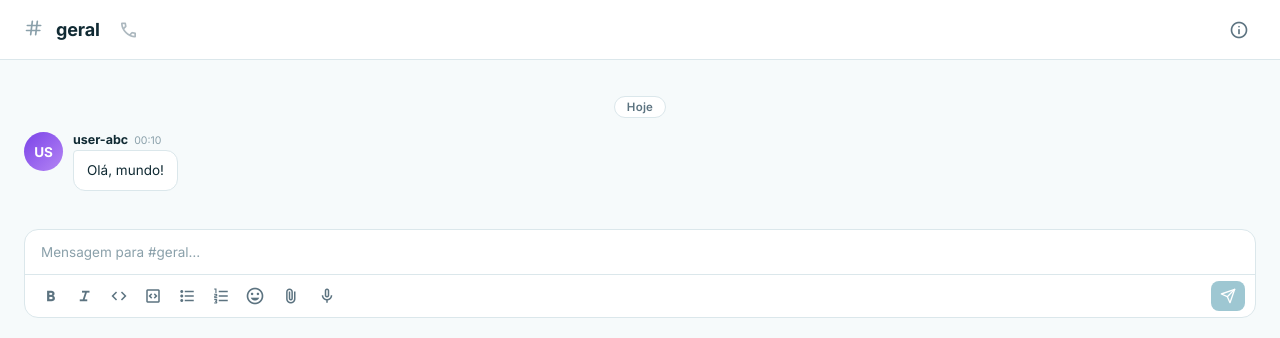
Test case: ChatMessageArea — message list › reveals the reaction menu by keyboard focus and touch
This screenshot has width=1280, height=338.
Focus the element with test id "chat-msg-bubble": point(101, 161) [24,132,178,191]
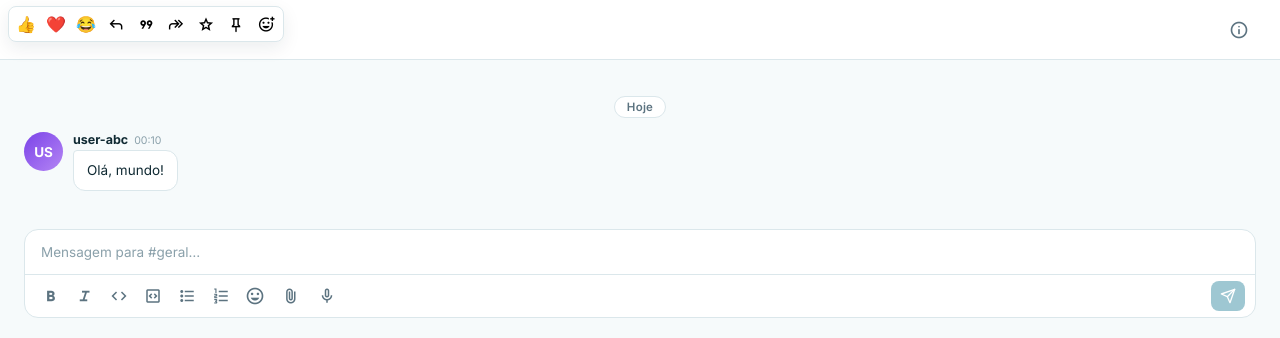
Now the button named "Mais reações" is shown, box [252,10,280,38]
Now the button named "Responder" is shown, box [102,10,130,38]
Leave the element with test id "chat-msg-bubble", box [24,132,178,191]
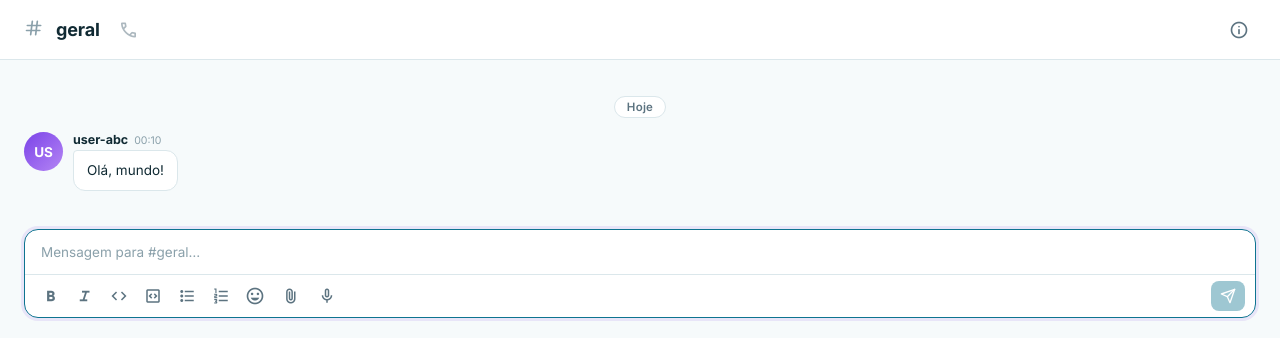
Press the mouse on the element with test id "chat-msg-bubble": point(101, 161) [24,132,178,191]
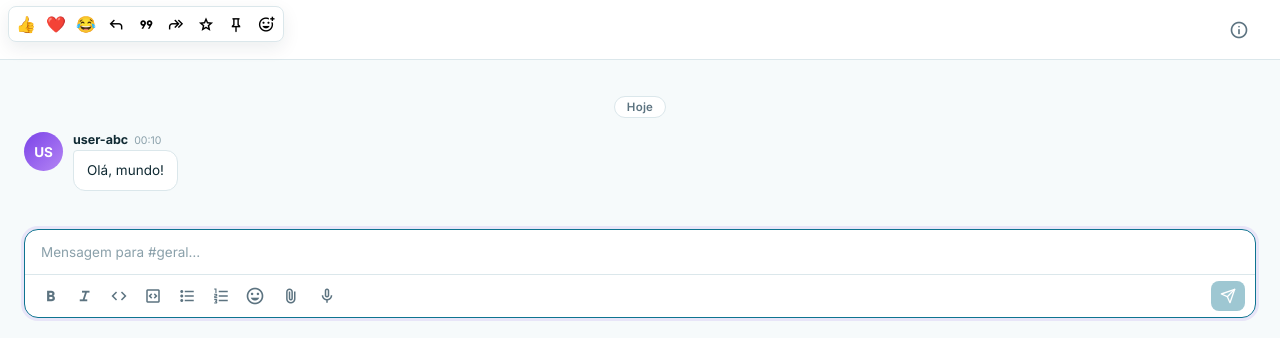
Now the button named "Mais reações" is shown, box [252,10,280,38]
